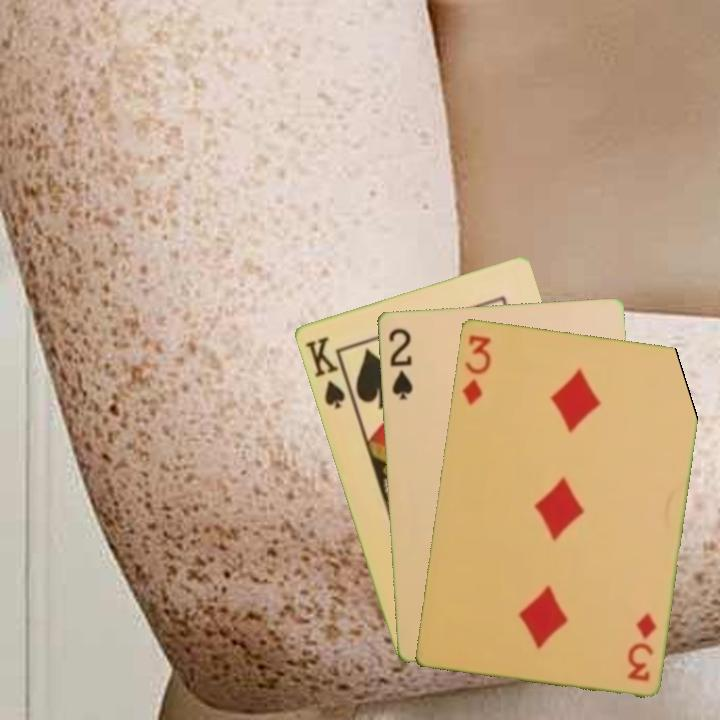2s: (385, 324, 416, 402)
3d: (458, 331, 494, 407), (623, 609, 659, 684)
Ks: (301, 333, 348, 412)
